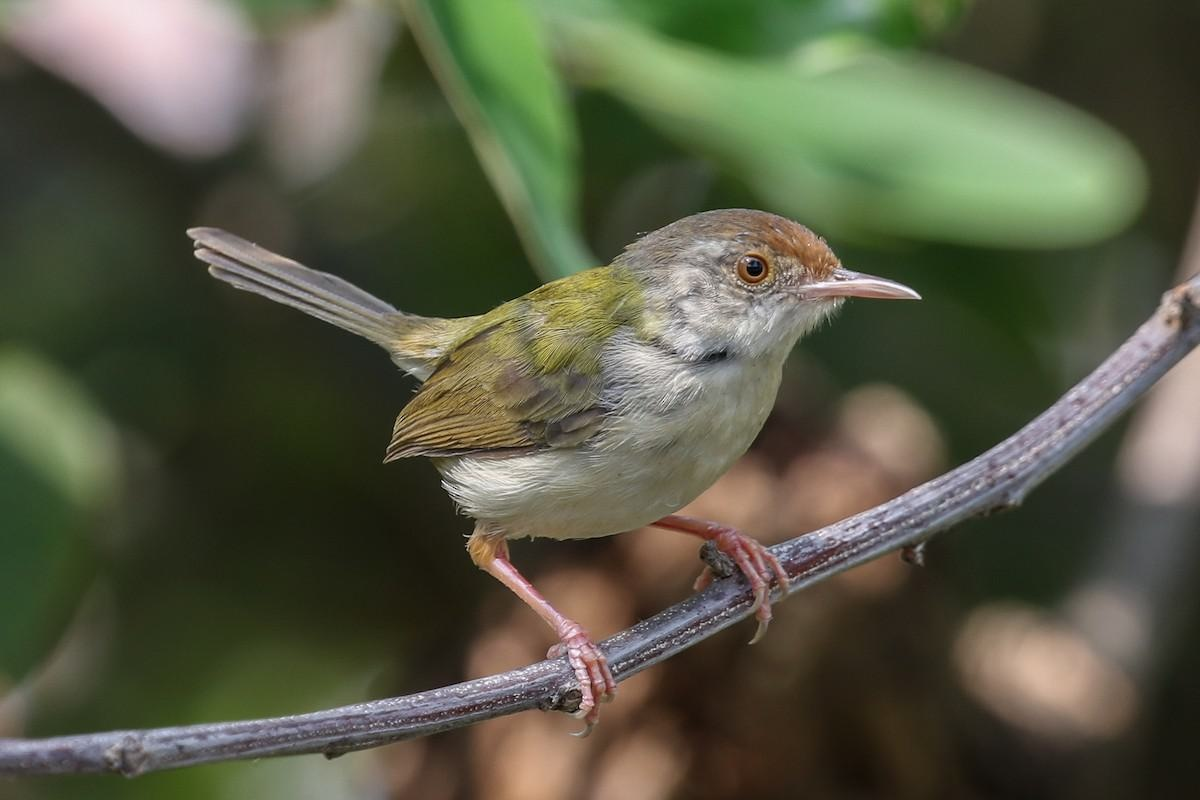tailorbird: (258, 140, 947, 634)
